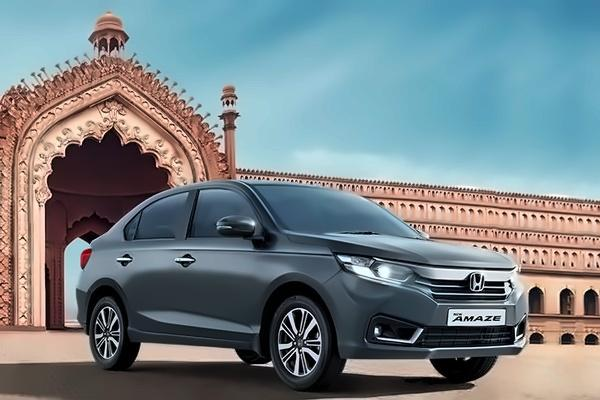Car hood: (288, 230, 524, 267)
Driver-s door - -F-R-: (191, 181, 271, 342)
Fender - -F-R-: (252, 236, 346, 360)
Fender - -R-R-: (85, 248, 141, 356)
Front bumper: (317, 270, 538, 361)
Headlight - -L-: (502, 259, 535, 295)
Headlight - -R-: (328, 245, 422, 288)
Passenger-s door - -R-R-: (116, 185, 195, 336)
Rear bumper: (70, 280, 99, 341)
Rear light - -R-: (70, 230, 99, 271)
Side bumper - -R-: (124, 323, 268, 359)
Side mirror - -R-: (210, 206, 266, 246)
